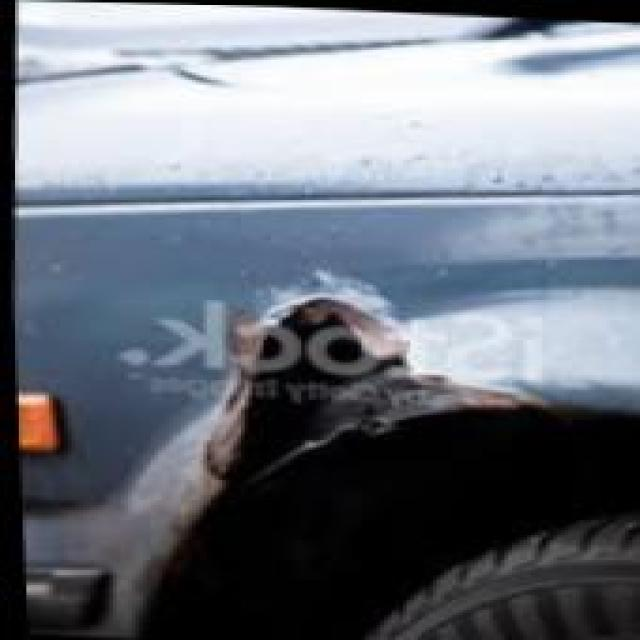Fender: (4, 158, 638, 580)
